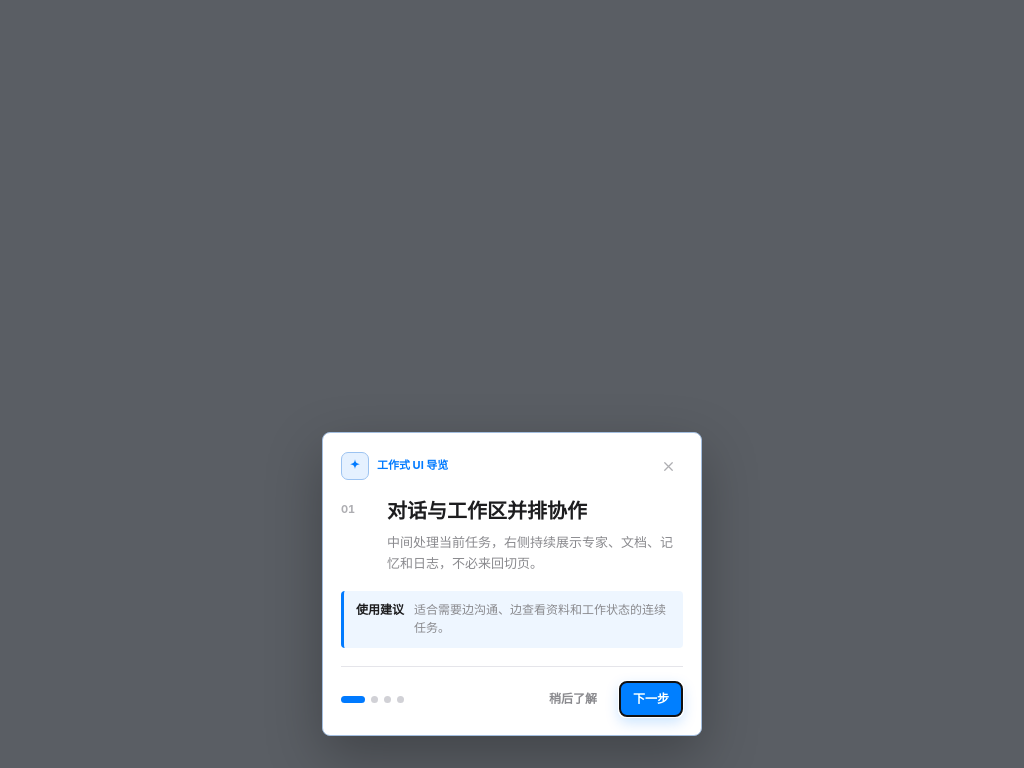
Test: FirstRunGuide › uses a separate walkthrough and completion state for the work UI
Expected: the heading "对话与工作区并排协作" is shown, [387,499,587,523]
Step 1. Click the button "下一步" → (651, 699), box [619,681,683,717]
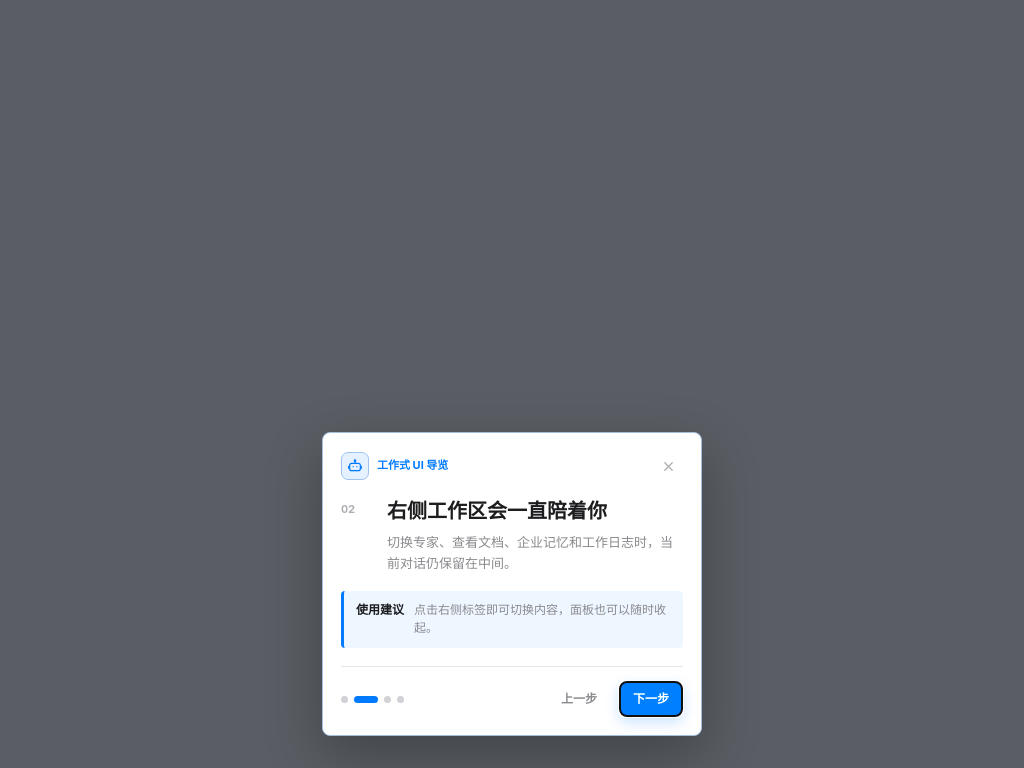
Expected: the text "工作式 UI 导览" is shown, [377,458,448,474]
Result: the heading "右侧工作区会一直陪着你" is shown at [387,499,607,523]
